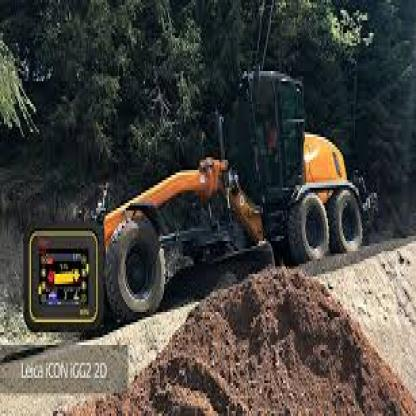bull_dozer/loader/grader: (50, 71, 385, 353)
